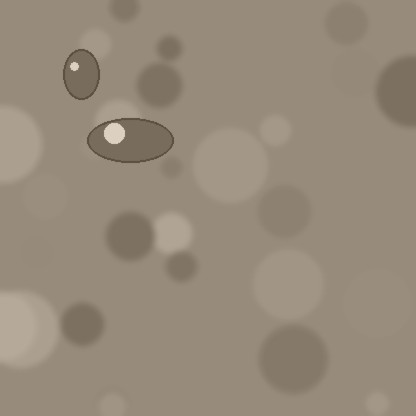gota: (87, 120, 173, 166), (63, 51, 99, 103)
